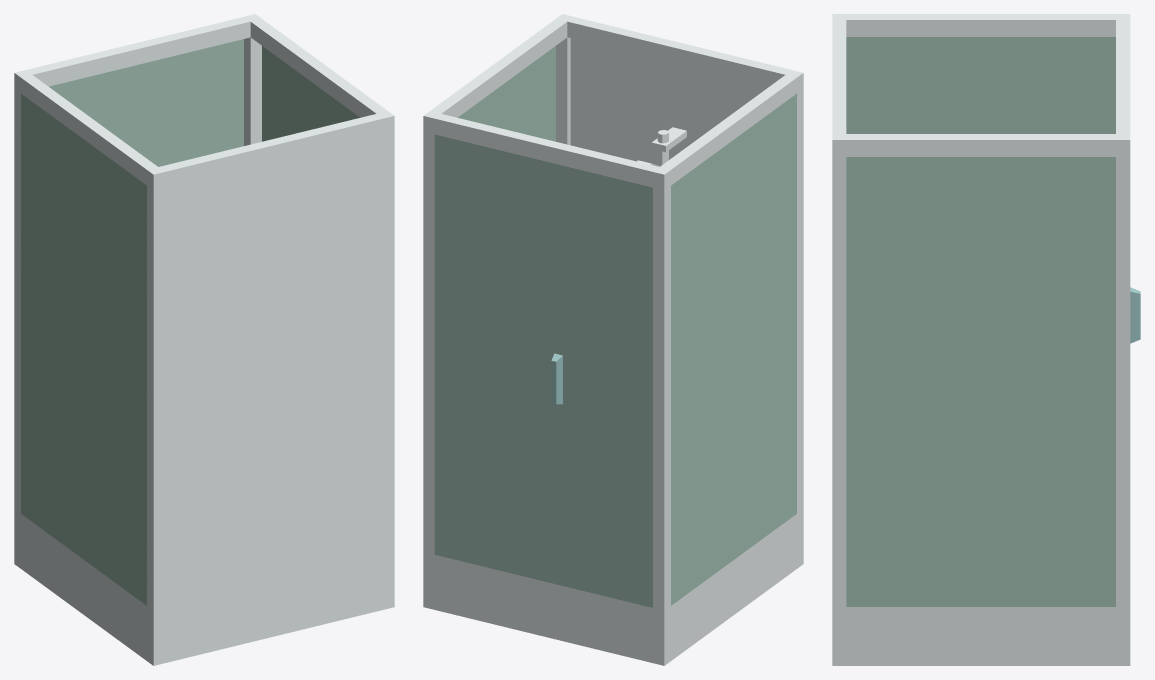
Rendered from shower.fbx.
3 views of the same model, side by side, from view 1: azimuth 30°, elevation 25°; view 2: azimuth 150°, elevation 25°; view 3: azimuth 270°, elevation 25° (orthographic). The views are drawn at different scales.
Visible parts, largest first — view 1: shower, doorLeft 3, doorRight 3; view 2: shower, doorLeft 3, doorRight 3; view 3: shower, doorRight 3.
Boxes of the visible parts, <box> form: shower: <box>14,14,394,665</box>; doorLeft 3: <box>135,39,243,166</box>; doorRight 3: <box>49,65,134,149</box>; shower: <box>423,14,803,665</box>; doorLeft 3: <box>434,134,543,581</box>; doorRight 3: <box>544,161,652,607</box>; shower: <box>832,14,1130,665</box>; doorRight 3: <box>1130,287,1140,343</box>.
Bounding box in the file's own units: 5.62 × 10.94 × 5.82.
